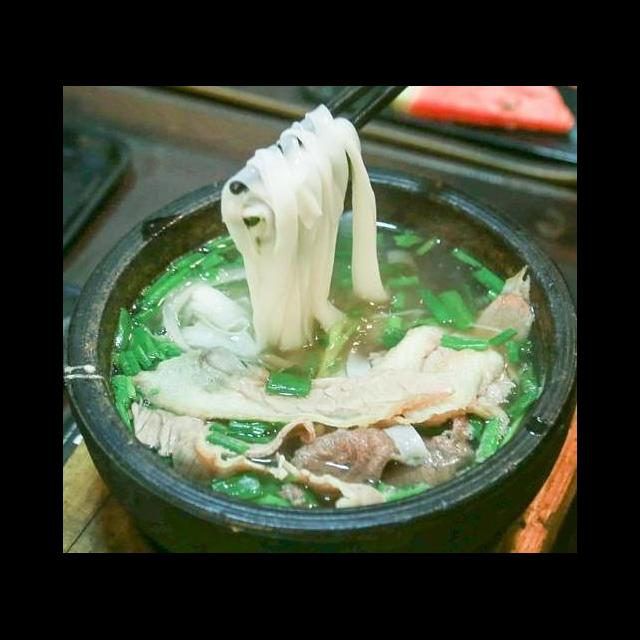banh pho: (215, 100, 395, 362), (152, 258, 266, 364)
pho bo: (73, 135, 577, 551)
thit bo: (123, 350, 459, 430), (128, 401, 326, 484), (273, 416, 437, 516), (371, 322, 520, 432), (370, 410, 478, 500), (462, 260, 539, 370)
